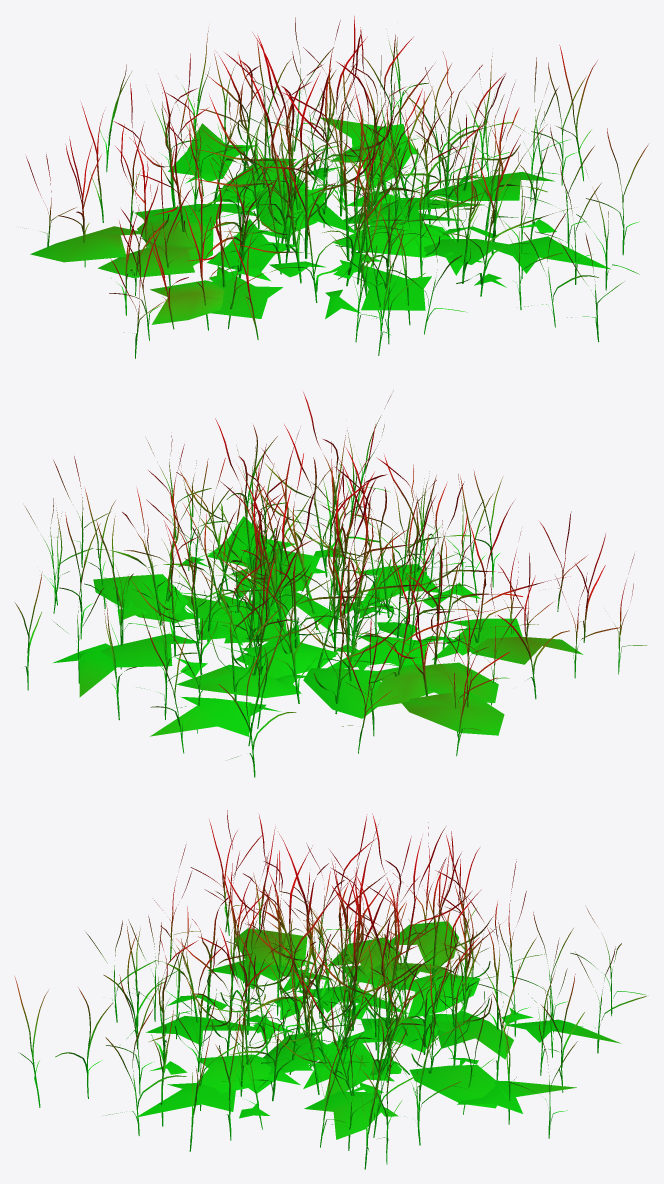
File: Kikuyu Grass_LOD1_Var4_wiljearqx.fbx
3 renders of one model, top to bottom at view 1: azimuth 30°, elevation 25°; view 2: azimuth 150°, elevation 25°; view 3: azimuth 270°, elevation 25°, orthographic. The views are drawn at different scales.
Parts seen in each view (by area): view 1: _6jvh_Var4_LOD1; view 2: _6jvh_Var4_LOD1; view 3: _6jvh_Var4_LOD1.
Boxes of the visible parts, x1,y1,x2,y2 form: _6jvh_Var4_LOD1: [22, 16, 648, 358]; _6jvh_Var4_LOD1: [15, 392, 647, 777]; _6jvh_Var4_LOD1: [14, 810, 648, 1169].
Bounding box in the file's own units: 115 × 43.61 × 118.
